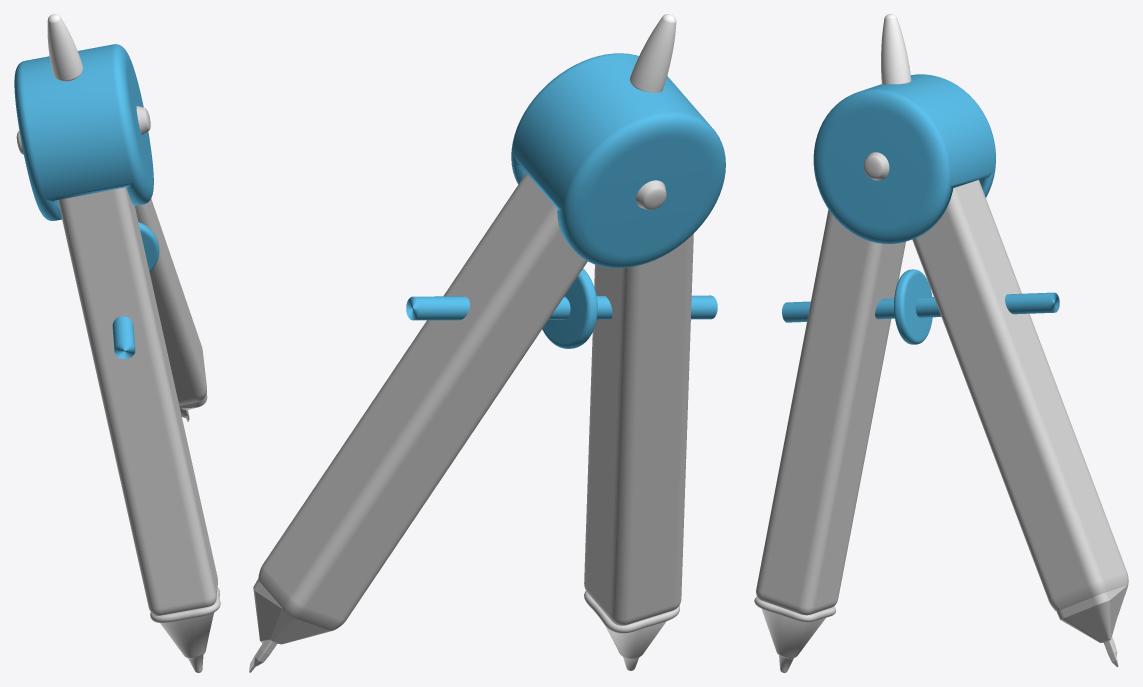
The model's file is architecture-en-design.glb.
The picture shows the model from 3 angles, left to right: view 1: azimuth 30°, elevation 25°; view 2: azimuth 150°, elevation 25°; view 3: azimuth 270°, elevation 25°; orthographic projection. The views are drawn at different scales.
Visible parts, largest first — view 1: legs/glass, cilinder-top/color, top/clear, bar/color.001, cilinder/color; view 2: legs/glass, cilinder-top/color, bar/color.001, cilinder/color, top/clear, dot/glass.001; view 3: legs/glass, cilinder-top/color, bar/color.001, cilinder/color, top/clear, dot/glass.
Boxes of the visible parts, left/top/right/bottom form: legs/glass: left=58, top=187, right=220, bottom=672; cilinder-top/color: left=14, top=44, right=153, bottom=220; top/clear: left=47, top=14, right=82, bottom=81; bar/color.001: left=112, top=316, right=135, bottom=358; cilinder/color: left=138, top=222, right=159, bottom=272; legs/glass: left=249, top=173, right=693, bottom=672; cilinder-top/color: left=511, top=53, right=725, bottom=268; bar/color.001: left=406, top=295, right=717, bottom=320; cilinder/color: left=542, top=268, right=597, bottom=348; top/clear: left=629, top=14, right=676, bottom=92; dot/glass.001: left=636, top=180, right=666, bottom=210; legs/glass: left=754, top=180, right=1128, bottom=672; cilinder-top/color: left=813, top=74, right=995, bottom=243; bar/color.001: left=782, top=292, right=1059, bottom=322; cilinder/color: left=894, top=269, right=932, bottom=344; top/clear: left=881, top=14, right=911, bottom=84; dot/glass: left=863, top=152, right=889, bottom=180.
Size of the model in its own units: 1.3 by 2.7 by 1.49.
